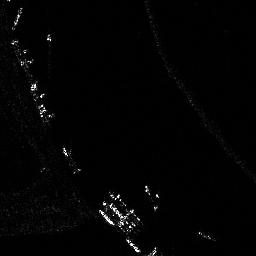ship: (12, 7, 22, 31)
